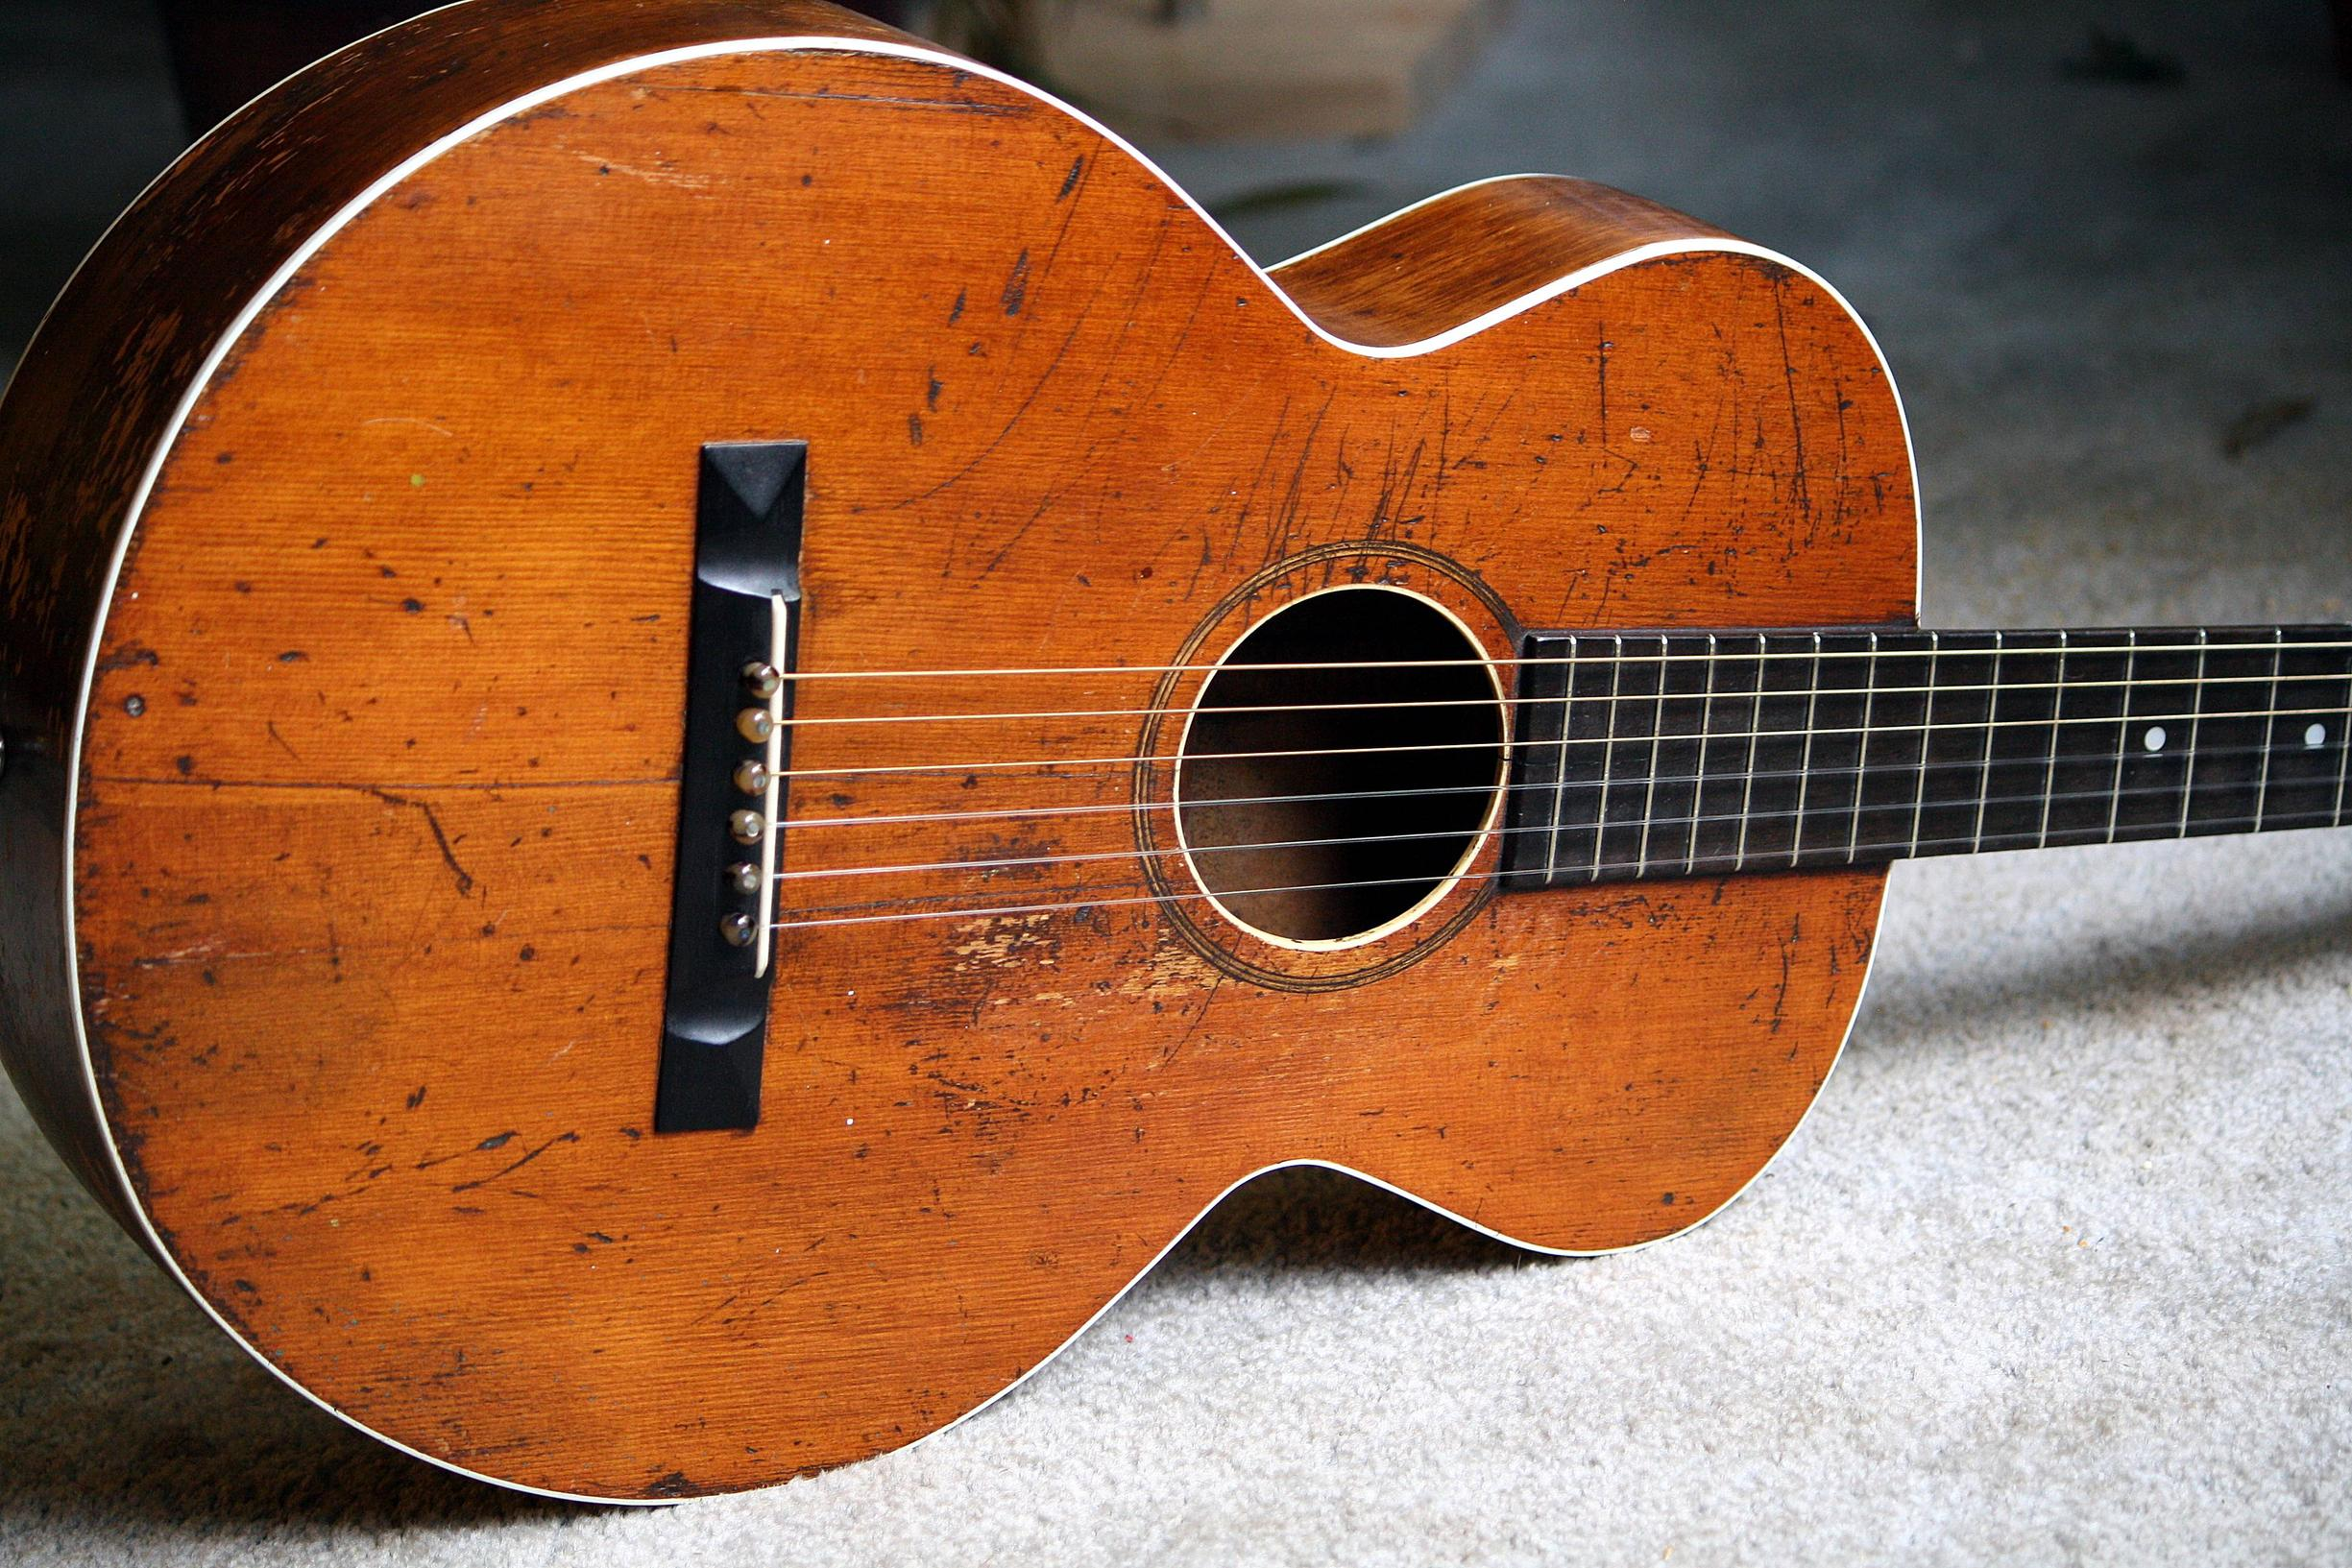guitar: (10, 10, 1942, 1510)
